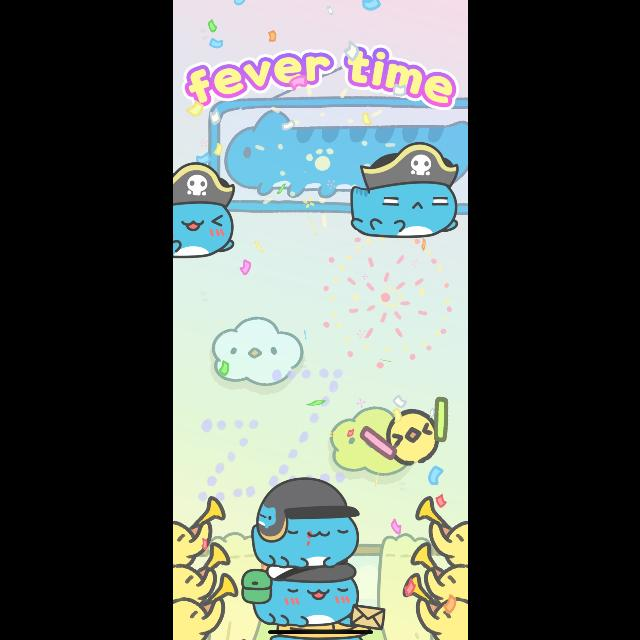capoo: (246, 472, 366, 570), (346, 147, 466, 241), (241, 564, 391, 634), (172, 162, 238, 262)
